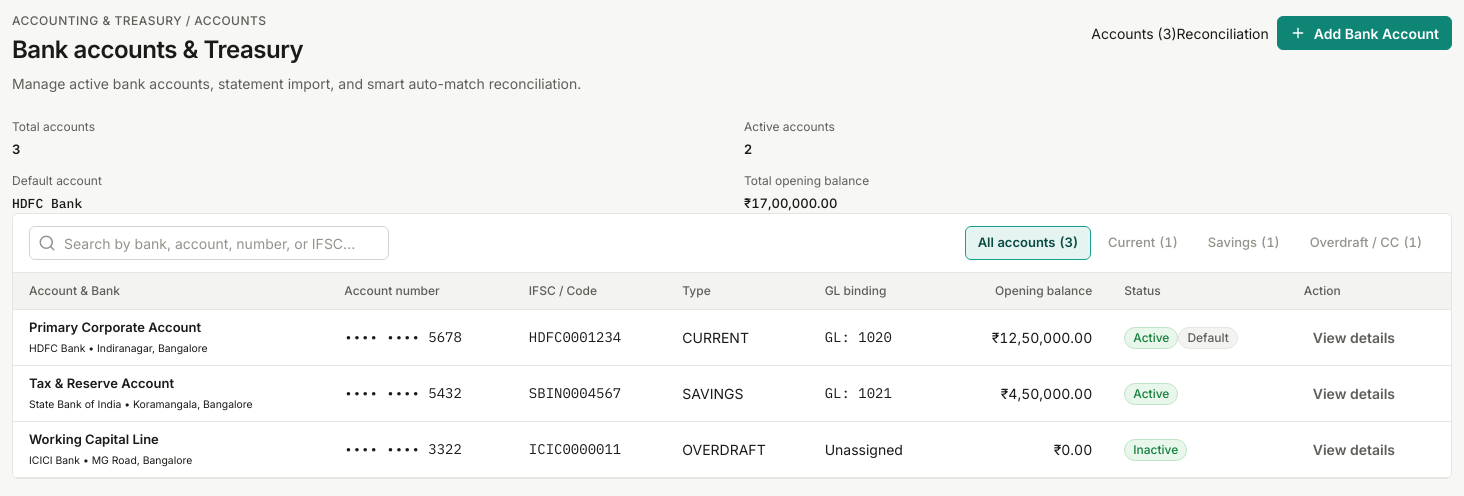
BankingPage › filters bank accounts by search query
expect the text "Primary Corporate Account" is shown: met, box [29,319,201,335]
In the search field with placeholder "Search by bank, account, number, or IFSC...": (222,243) [64,233,380,254], type "SBIN0004567"
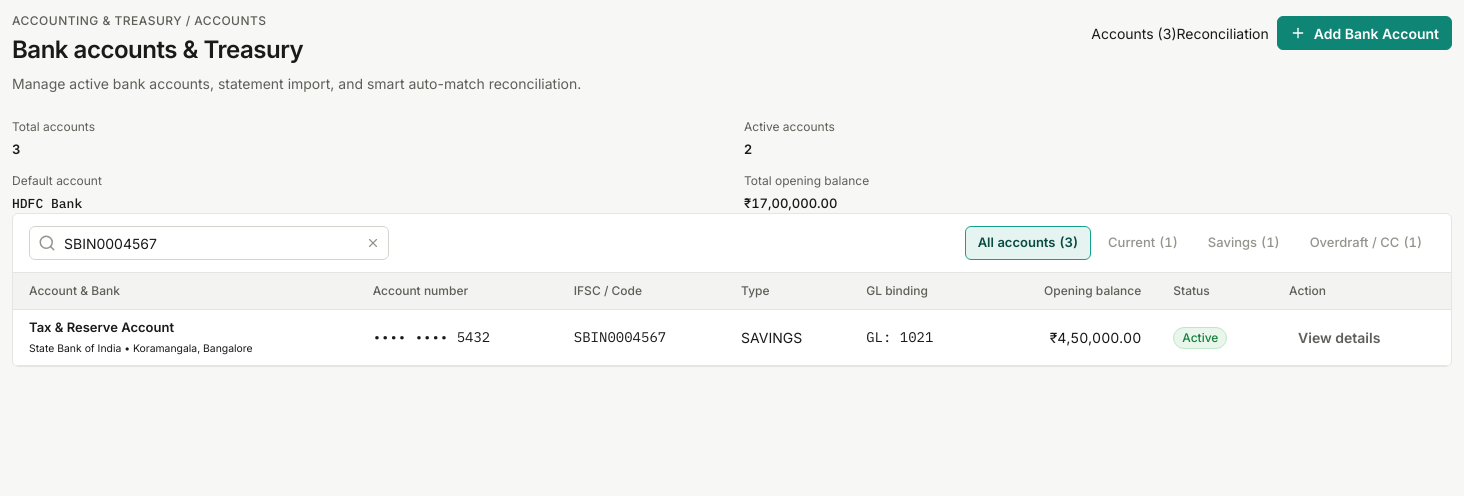
expect the text "Tax & Reserve Account" is shown: met, box [29,319,174,335]
expect the text "Primary Corporate Account" is gone: met
expect the text "Working Capital Line" is gone: met
